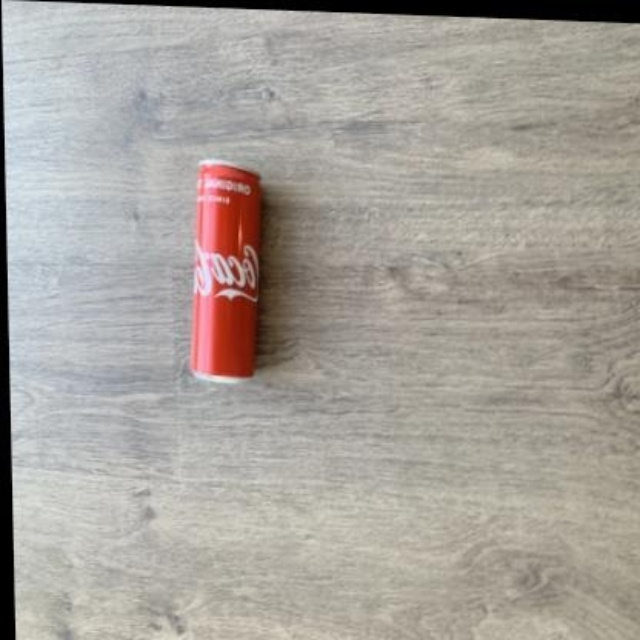trash: (191, 160, 260, 378)
